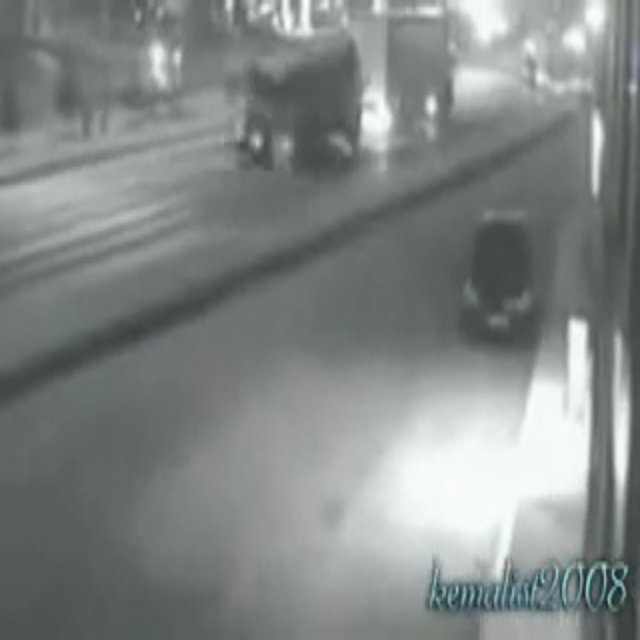acc: (215, 47, 369, 172)
